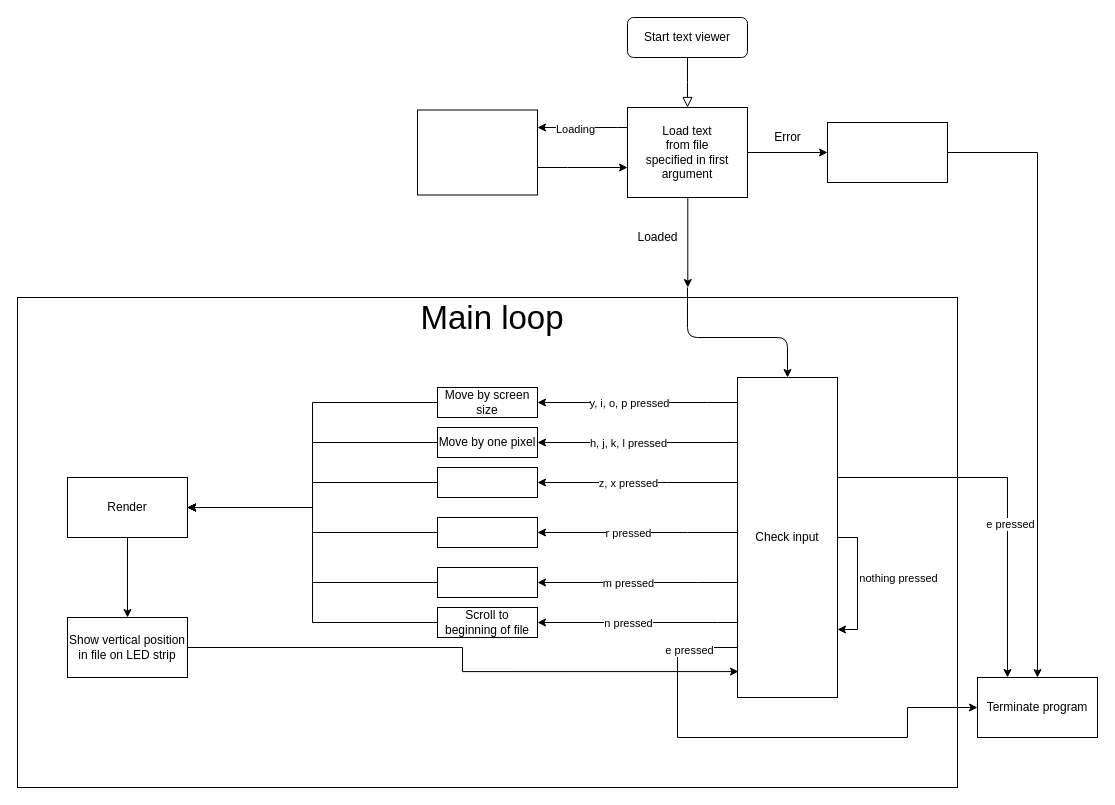
The diagram is 1115 pixels wide and 805 high, and some of its shapes have lost their labels. The shapes that lost their labels are listed below. From the top down, each one's box as (x1, y1, x2, y2) in pixels, then its label:
(416, 109, 538, 195): Show progress on LED strip
(826, 122, 948, 182): Make RGB LED red
(436, 466, 538, 498): Increase or decrease font size
(436, 516, 538, 548): Reset zoom and cursor
(436, 566, 538, 598): Scroll to end of file
